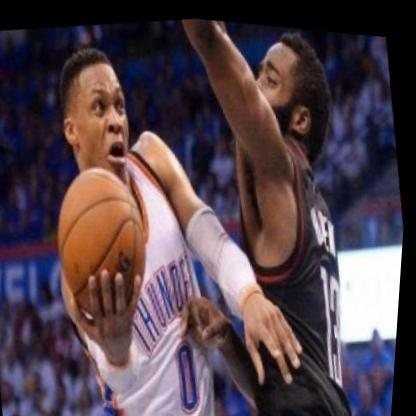basketball: (40, 154, 174, 329)
